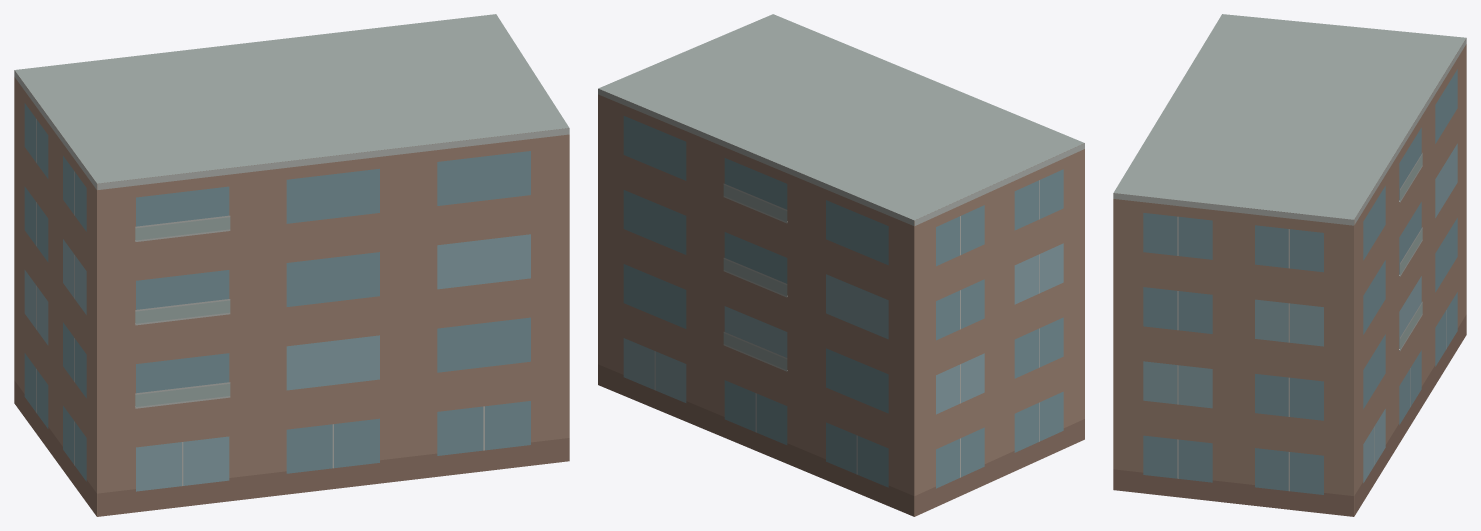
Rendered from survey-upis-32943827.glb.
3 renders of one model, left to right at view 1: azimuth 30°, elevation 25°; view 2: azimuth 150°, elevation 25°; view 3: azimuth 270°, elevation 25°, orthographic. The views are drawn at different scales.
Visible parts, largest first — view 1: survey-upis-32943827.tmp; view 2: survey-upis-32943827.tmp; view 3: survey-upis-32943827.tmp.
Part boxes in pixels (x1,y1,x2,y2): survey-upis-32943827.tmp: [14, 14, 569, 516]; survey-upis-32943827.tmp: [598, 14, 1084, 516]; survey-upis-32943827.tmp: [1113, 14, 1466, 516].
Bounding box in the file's own units: 18.36 × 12.35 × 13.32.
